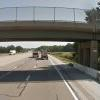Bridge: (3, 5, 100, 52)
